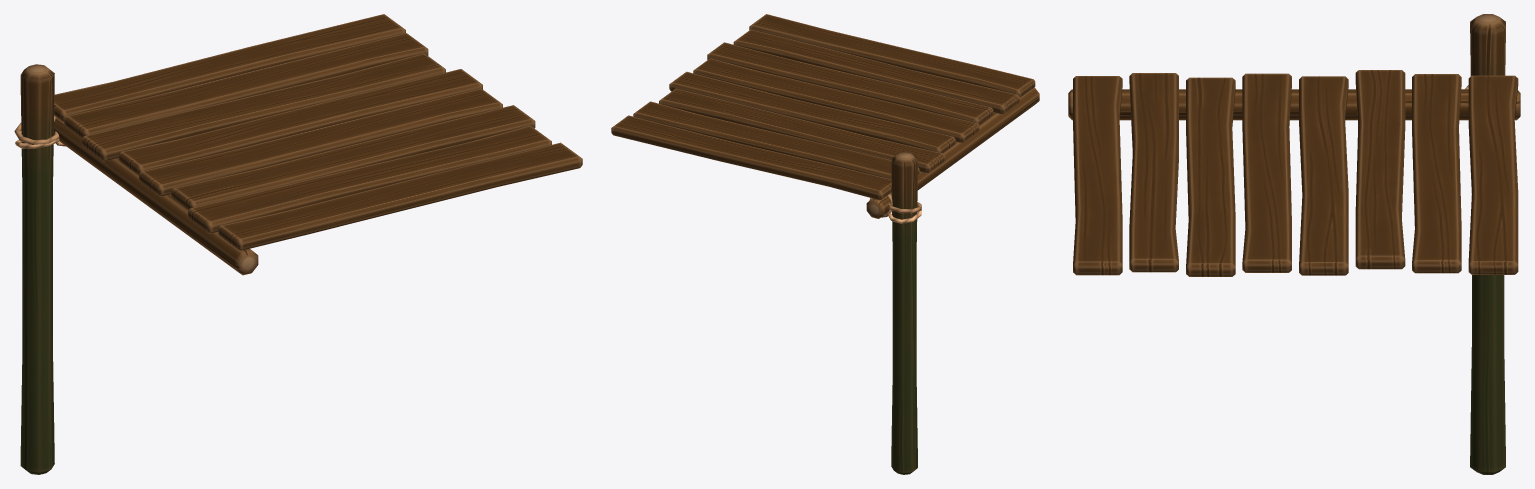
File: Corner_left.1.fbx
3 renders of one model, left to right at view 1: azimuth 30°, elevation 25°; view 2: azimuth 150°, elevation 25°; view 3: azimuth 270°, elevation 25°, orthographic. The views are drawn at different scales.
Parts seen in each view (by area): view 1: Corner_left.1; view 2: Corner_left.1; view 3: Corner_left.1.
Part boxes in pixels (box(x1,y1,x2,y2)): Corner_left.1: box(14, 14, 582, 474); Corner_left.1: box(611, 14, 1039, 474); Corner_left.1: box(1068, 14, 1520, 474).
Size of the model in its own units: 221 by 220 by 200.
